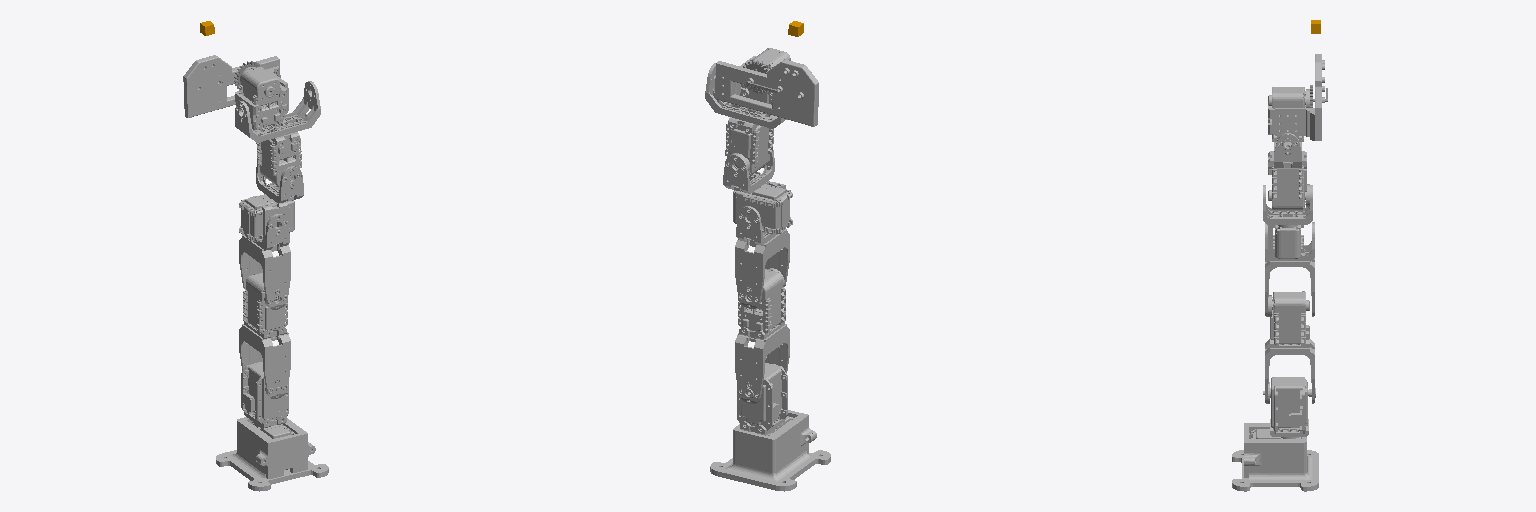
URDF robot description (urdf_config_files_v4):
<?xml version="1.0" encoding="utf-8"?>
<!-- This URDF was automatically created by SolidWorks to URDF Exporter! Originally created by [author] ([email redacted]) 
     Commit Version: 1.6.0-4-g7f85cfe  Build Version: 1.6.7995.38578
     For more information, please see http://wiki.ros.org/sw_urdf_exporter -->
<robot
  name="urdf_config_files_v4">
  <link name="world"/>
  <joint name="base_joint" type="fixed">
    <parent link="world"/>
    <child link="base_link"/>
    <origin rpy="0 0 0" xyz="0.0 0.0 0.0"/>
  </joint>

  <link
    name="base_link">
    <inertial>
      <origin
        xyz="-1.1556E-05 0.0011893 0.019693"
        rpy="0 0 0" />
      <mass
        value="0.11294" />
      <inertia
        ixx="5.0717E-05"
        ixy="-1.0317E-08"
        ixz="1.4933E-09"
        iyy="4.4074E-05"
        iyz="-5.8048E-07"
        izz="6.3337E-05" />
    </inertial>
    <visual>
      <origin
        xyz="0 0 0"
        rpy="0 0 0" />
      <geometry>
        <mesh
          filename="package://urdf_config_files_v4/meshes/base_link.STL" />
      </geometry>
      <material
        name="">
        <color
          rgba="0.75294 0.75294 0.75294 1" />
      </material>
    </visual>
    <collision>
      <origin
        xyz="0 0 0"
        rpy="0 0 0" />
      <geometry>
        <mesh
          filename="package://urdf_config_files_v4/meshes/base_link.STL" />
      </geometry>
    </collision>
  </link>
  <link
    name="link_1">
    <inertial>
      <origin
        xyz="0.00048577 0.02814 0.00026142"
        rpy="0 0 0" />
      <mass
        value="0.047197" />
      <inertia
        ixx="1.3061E-05"
        ixy="1.1697E-08"
        ixz="-4.7463E-09"
        iyy="8.4497E-06"
        iyz="-3.935E-07"
        izz="1.0623E-05" />
    </inertial>
    <visual>
      <origin
        xyz="0 0 0"
        rpy="0 0 0" />
      <geometry>
        <mesh
          filename="package://urdf_config_files_v4/meshes/link_1.STL" />
      </geometry>
      <material
        name="">
        <color
          rgba="0.75294 0.75294 0.75294 1" />
      </material>
    </visual>
    <collision>
      <origin
        xyz="0 0 0"
        rpy="0 0 0" />
      <geometry>
        <mesh
          filename="package://urdf_config_files_v4/meshes/link_1.STL" />
      </geometry>
    </collision>
  </link>
  <joint
    name="joint_1"
    type="revolute">
    <origin
      xyz="0 0.0135 0.045"
      rpy="1.5708 0 0" />
      <!--rpy="1.5708 0 0" />-->
    <parent
      link="base_link" />
    <child
      link="link_1" />
    <axis
      xyz="0 1 0" />
    <limit
      lower="-2.61799"
      upper="2.61799"
      effort="10"
      velocity="1" />
  </joint>
  <link
    name="link_2">
    <inertial>
      <origin
        xyz="-0.00015352 0.068118 0.00012856"
        rpy="0 0 0" />
      <mass
        value="0.05941" />
      <inertia
        ixx="2.1222E-05"
        ixy="6.958E-08"
        ixz="1.4897E-09"
        iyy="1.2978E-05"
        iyz="1.9097E-07"
        izz="1.5451E-05" />
    </inertial>
    <visual>
      <origin
        xyz="0 0 0"
        rpy="0 0 0" />
      <geometry>
        <mesh
          filename="package://urdf_config_files_v4/meshes/link_2.STL" />
      </geometry>
      <material
        name="">
        <color
          rgba="0.75294 0.75294 0.75294 1" />
      </material>
    </visual>
    <collision>
      <origin
        xyz="0 0 0"
        rpy="0 0 0" />
      <geometry>
        <mesh
          filename="package://urdf_config_files_v4/meshes/link_2.STL" />
      </geometry>
    </collision>
  </link>
  <joint
    name="joint_2"
    type="revolute">
    <origin
      xyz="0.0005 0.0413 0"
      rpy="0 0 0" />
      <!--rpy="0 0 0" />-->
    <parent
      link="link_1" />
    <child
      link="link_2" />
    <axis
      xyz="0 0 1" />
    <limit
      lower="-2.61799"
      upper="2.61799"
      effort="10"
      velocity="1" />
  </joint>
  <link
    name="link_3">
    <inertial>
      <origin
        xyz="0.0016661 -0.0011685 -0.067826"
        rpy="0 0 0" />
      <mass
        value="0.066446" />
      <inertia
        ixx="1.8638E-05"
        ixy="1.045E-08"
        ixz="-1.476E-09"
        iyy="1.9244E-05"
        iyz="2.706E-07"
        izz="1.9098E-05" />
    </inertial>
    <visual>
      <origin
        xyz="0 0 0"
        rpy="0 0 0" />
      <geometry>
        <mesh
          filename="package://urdf_config_files_v4/meshes/link_3.STL" />
      </geometry>
      <material
        name="">
        <color
          rgba="0.75294 0.75294 0.75294 1" />
      </material>
    </visual>
    <collision>
      <origin
        xyz="0 0 0"
        rpy="0 0 0" />
      <geometry>
        <mesh
          filename="package://urdf_config_files_v4/meshes/link_3.STL" />
      </geometry>
    </collision>
  </link>
  <joint
    name="joint_3"
    type="revolute">
    <origin
      xyz="0 0.0935 0"
      rpy="1.5708  -1.5708 0" />
      <!--rpy="1.5708 -1.5708 0" />-->
    <parent
      link="link_2" />
    <child
      link="link_3" />
    <axis
      xyz="1 0 0" />
    <limit
      lower="-2.61799"
      upper="2.61799"
      effort="10"
      velocity="1" />
  </joint>
  <link
    name="link_4">
    <inertial>
      <origin
        xyz="-0.00045768 -0.011869 -4.4208E-14"
        rpy="0 0 0" />
      <mass
        value="0.0072915" />
      <inertia
        ixx="3.2351E-06"
        ixy="-1.3597E-08"
        ixz="-1.5335E-17"
        iyy="2.8771E-06"
        iyz="7.4997E-18"
        izz="1.2258E-06" />
    </inertial>
    <visual>
      <origin
        xyz="0 0 0"
        rpy="0 0 0" />
      <geometry>
        <mesh
          filename="package://urdf_config_files_v4/meshes/link_4.STL" />
      </geometry>
      <material
        name="">
        <color
          rgba="0.75294 0.75294 0.75294 1" />
      </material>
    </visual>
    <collision>
      <origin
        xyz="0 0 0"
        rpy="0 0 0" />
      <geometry>
        <mesh
          filename="package://urdf_config_files_v4/meshes/link_4.STL" />
      </geometry>
    </collision>
  </link>
  <joint
    name="joint_4"
    type="revolute">
    <origin
      xyz="0.0015 -0.0147 -0.098042"
      rpy="1.5708 -0.03835 1.5708" />
      <!--rpy="1.5708 -0.03835 1.5708" />-->
    <parent
      link="link_3" />
    <child
      link="link_4" />
    <axis
      xyz="0.038341 0.99926 0" />
    <limit
      lower="-2.61799"
      upper="2.61799"
      effort="10"
      velocity="1" />
  </joint>
  <link
    name="link_5">
    <inertial>
      <origin
        xyz="-0.013503 -0.057591 0.0067825"
        rpy="0 0 0" />
      <mass
        value="0.13855" />
      <inertia
        ixx="3.315E-05"
        ixy="-2.2874E-06"
        ixz="-8.8417E-09"
        iyy="4.7741E-05"
        iyz="1.7656E-08"
        izz="6.0236E-05" />
    </inertial>
    <visual>
      <origin
        xyz="0 0 0"
        rpy="0 0 0" />
      <geometry>
        <mesh
          filename="package://urdf_config_files_v4/meshes/link_5.STL" />
      </geometry>
      <material
        name="">
        <color
          rgba="0.75294 0.75294 0.75294 1" />
      </material>
    </visual>
    <collision>
      <origin
        xyz="0 0 0"
        rpy="0 0 0" />
      <geometry>
        <mesh
          filename="package://urdf_config_files_v4/meshes/link_5.STL" />
      </geometry>
    </collision>
  </link>
  <joint
    name="joint_5"
    type="revolute">
    <origin
      xyz="-0.0010336 -0.026938 0"
      rpy="3.1416 0 3.1416" />
      <!--rpy="3.1416 0 1.5324" />-->
    <parent
      link="link_4" />
    <child
      link="link_5" />
    <axis
      xyz="0 0 1" />
    <limit
      lower="-2.61799"
      upper="2.61799"
      effort="10"
      velocity="1" />
  </joint>
  <link
    name="link_6">
    <inertial>
      <origin
        xyz="-8.6253E-11 0.00085662 -0.002877"
        rpy="0 0 0" />
      <mass
        value="0.0020958" />
      <inertia
        ixx="1.6915E-07"
        ixy="3.9043E-17"
        ixz="1.1547E-15"
        iyy="1.3473E-07"
        iyz="2.5356E-08"
        izz="2.2939E-07" />
    </inertial>
    <visual>
      <origin
        xyz="0 0 0"
        rpy="0 0 0" />
      <geometry>
        <mesh
          filename="package://urdf_config_files_v4/meshes/link_6.STL" />
      </geometry>
      <material
        name="">
        <color
          rgba="0.62745 0.62745 0.62745 1" />
      </material>
    </visual>
    <collision>
      <origin
        xyz="0 0 0"
        rpy="0 0 0" />
      <geometry>
        <mesh
          filename="package://urdf_config_files_v4/meshes/link_6.STL" />
      </geometry>
    </collision>
  </link>
  <joint
    name="joint_6"
    type="revolute">
    <origin
      xyz="-0.01725 -0.093 0.021"
      rpy="3.1416 0 -1.5708" />
    <parent
      link="link_5" />
    <child
      link="link_6" />
    <axis
      xyz="0 0 1" />
    <limit
      lower="-1.571"
      upper="1.571"
      effort="10"
      velocity="1" />
  </joint>
  <link 
  name="grasping_frame">
    <inertial>
      <origin rpy="0 0 0" xyz="0 0 0" />
      <mass value="0.0001" />
      <cuboid_inertia mass="0.0001" x="0.001" y="0.001" z="0.001" />
      <inertia ixx="1.0" ixy="0.0" ixz="0.0" iyy="100.0" iyz="0.0" izz="1.0" />
    </inertial>

    <visual>
      <origin xyz="0 0 0" />
      <geometry>
        <!--
        <box size="${grasp_frame_len} ${grasp_frame_width} ${grasp_frame_height}" />
				-->
        <box size="0.01 0.01 0.01"/>
      </geometry>
    </visual>
  </link>
  <joint name="grasping_frame_joint" type="fixed">
    <parent link="link_5" />
    <child link="grasping_frame" />
    <origin rpy="0 0 0" xyz="-0.058 -0.1535 0.027" />
  </joint>

    <transmission name="trans_joint_1">
        <type>transmission_interface/SimpleTransmission</type>
        <joint name="joint_1">
            <hardwareInterface>hardware_interface/PositionJointInterface</hardwareInterface>
        </joint>
        <actuator name="joint_1_motor">
            <hardwareInterface>hardware_interface/PositionJointInterface</hardwareInterface>
            <mechanicalReduction>1</mechanicalReduction>
        </actuator>
    </transmission>
    <transmission name="trans_joint_2">
        <type>transmission_interface/SimpleTransmission</type>
        <joint name="joint_2">
            <hardwareInterface>hardware_interface/PositionJointInterface</hardwareInterface>
        </joint>
        <actuator name="joint_2_motor">
            <hardwareInterface>hardware_interface/PositionJointInterface</hardwareInterface>
            <mechanicalReduction>1</mechanicalReduction>
        </actuator>
    </transmission>
    <transmission name="trans_joint_3">
        <type>transmission_interface/SimpleTransmission</type>
        <joint name="joint_3">
            <hardwareInterface>hardware_interface/PositionJointInterface</hardwareInterface>
        </joint>
        <actuator name="joint_3_motor">
            <hardwareInterface>hardware_interface/PositionJointInterface</hardwareInterface>
            <mechanicalReduction>1</mechanicalReduction>
        </actuator>
    </transmission>
  
    <transmission name="trans_joint_4">
        <type>transmission_interface/SimpleTransmission</type>
        <joint name="joint_4">
            <hardwareInterface>hardware_interface/PositionJointInterface</hardwareInterface>
        </joint>
        <actuator name="joint_4_motor">
            <hardwareInterface>hardware_interface/PositionJointInterface</hardwareInterface>
            <mechanicalReduction>1</mechanicalReduction>
        </actuator>
    </transmission>
    <transmission name="trans_joint_5">
        <type>transmission_interface/SimpleTransmission</type>
        <joint name="joint_5">
            <hardwareInterface>hardware_interface/PositionJointInterface</hardwareInterface>
        </joint>
        <actuator name="joint_5_motor">
            <hardwareInterface>hardware_interface/PositionJointInterface</hardwareInterface>
            <mechanicalReduction>1</mechanicalReduction>
        </actuator>
    </transmission>
    <transmission name="trans_joint_6">
        <type>transmission_interface/SimpleTransmission</type>
        <joint name="joint_6">
            <hardwareInterface>hardware_interface/PositionJointInterface</hardwareInterface>
        </joint>
        <actuator name="joint_6_motor">
            <hardwareInterface>hardware_interface/PositionJointInterface</hardwareInterface>
            <mechanicalReduction>1</mechanicalReduction>
        </actuator>
    </transmission>

    <gazebo>
        <plugin name="gazebo_ros_control" filename="libgazebo_ros_control.so">
            <robotNamespace>/myrobot</robotNamespace>
        </plugin>
    </gazebo>

    <gazebo reference="base_link">
      <selfCollide>true</selfCollide>
    </gazebo>
    <gazebo reference="link_1">
      <selfCollide>true</selfCollide>
    </gazebo>
    <gazebo reference="link_2">
      <selfCollide>true</selfCollide>
    </gazebo>
    <gazebo reference="link_3">
      <selfCollide>true</selfCollide>
    </gazebo>
    <gazebo reference="link_4">
      <selfCollide>true</selfCollide>
    </gazebo>
    <gazebo reference="link_5">
      <selfCollide>true</selfCollide>
    </gazebo>
    <gazebo reference="link_6">
      <selfCollide>true</selfCollide>
    </gazebo>
    <gazebo reference="grasping_frame">
      <selfCollide>true</selfCollide>
    </gazebo>

</robot>

--- What the picture shows (computed from the rendered views, not written in the file) ---
The picture shows the robot from 3 angles, left to right: view 1: azimuth 30°, elevation 25°; view 2: azimuth 150°, elevation 25°; view 3: azimuth 270°, elevation 25°; orthographic projection.
Robot: urdf_config_files_v4 — 9 links, 8 joints (6 revolute, 2 fixed); root link world; default pose: all joints at 0.
Visible links, largest first — view 1: link_5, base_link, link_3, link_2, link_1, link_4; view 2: link_5, link_3, base_link, link_2, link_1, link_4; view 3: link_5, base_link, link_2, link_3, link_1, link_4.
Boxes of the visible links, x1=… form: link_5: x1=183, y1=55, x2=320, y2=186; base_link: x1=216, y1=417, x2=328, y2=491; link_3: x1=239, y1=194, x2=294, y2=309; link_2: x1=239, y1=273, x2=290, y2=398; link_1: x1=241, y1=362, x2=288, y2=428; link_4: x1=256, y1=164, x2=303, y2=203; link_5: x1=705, y1=48, x2=818, y2=175; link_3: x1=733, y1=181, x2=792, y2=308; base_link: x1=710, y1=410, x2=830, y2=491; link_2: x1=735, y1=268, x2=789, y2=403; link_1: x1=737, y1=363, x2=787, y2=435; link_4: x1=723, y1=150, x2=774, y2=193; link_5: x1=1268, y1=54, x2=1324, y2=209; base_link: x1=1232, y1=423, x2=1318, y2=491; link_2: x1=1265, y1=291, x2=1315, y2=403; link_3: x1=1265, y1=222, x2=1314, y2=316; link_1: x1=1263, y1=377, x2=1308, y2=436; link_4: x1=1263, y1=185, x2=1312, y2=224.
Size in the robot's own frame: 0.1249 by 0.0935 by 0.4612 metres.
7 mesh visuals loaded from 7 distinct referenced files (7 binary STL).
